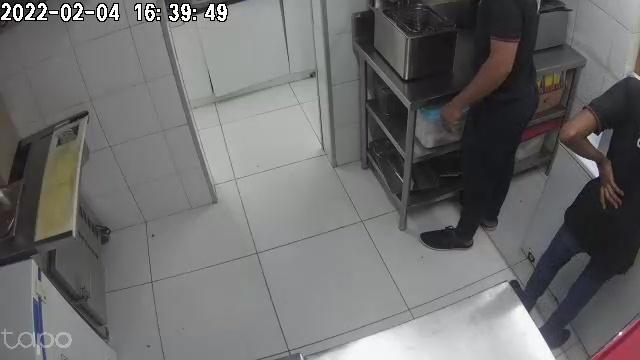no_gloves: (595, 151, 625, 211)
